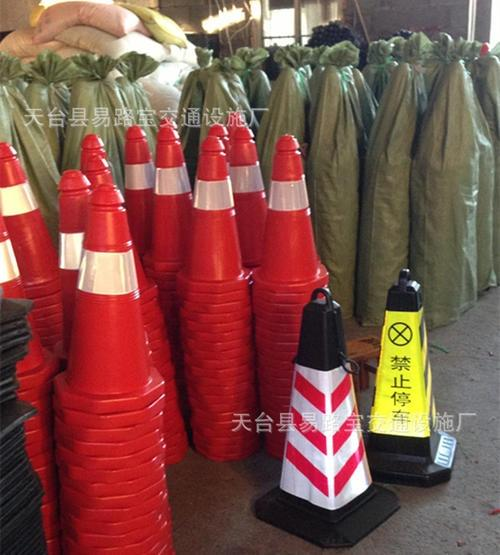cone_barrel: (257, 305, 395, 544), (359, 268, 454, 482), (62, 183, 152, 390), (251, 132, 326, 285), (181, 132, 243, 283), (1, 140, 51, 275), (147, 128, 193, 268), (228, 114, 269, 259), (52, 162, 92, 275), (120, 123, 152, 236)
